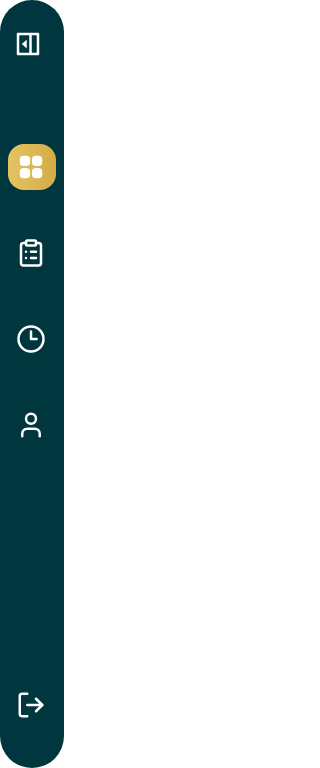
Sidebar Component › toggles open when sidebar button is clicked
This screenshot has width=320, height=768.
Click the button with test id "desktop-toggle-button" at [28, 44], box [8, 24, 48, 64]
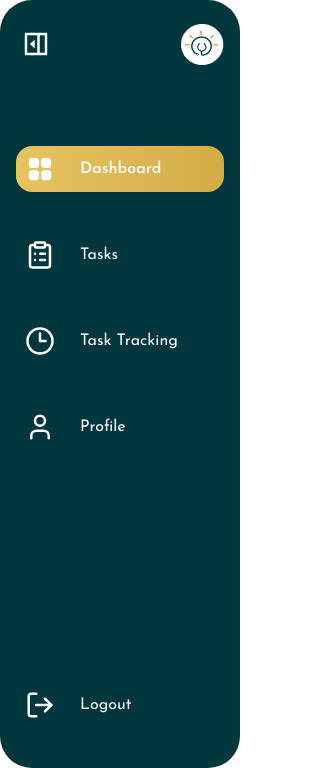
expect the text "Dashboard" is shown: met, box [80, 157, 161, 181]
